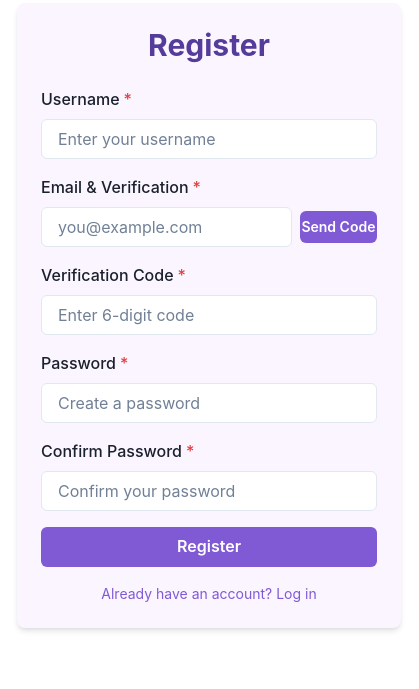
Scenario: Register Page › shows error when passwords do not match
In the field with placeholder "Enter your username": [209, 139] box [41,119,377,159], type "testuser"
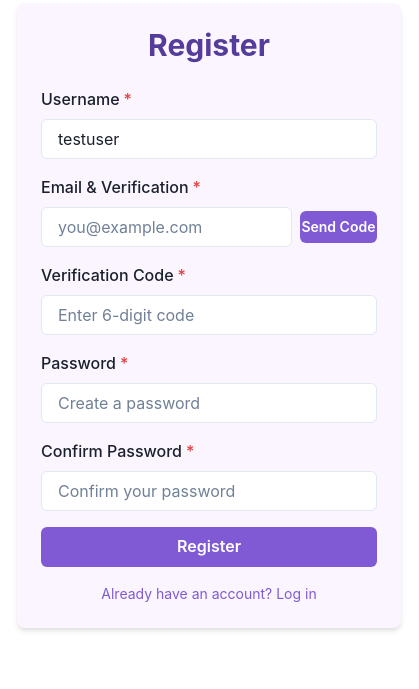
In the field with placeholder "you@example.com": [166, 227] box [41,207,292,247], type "test@example.com"
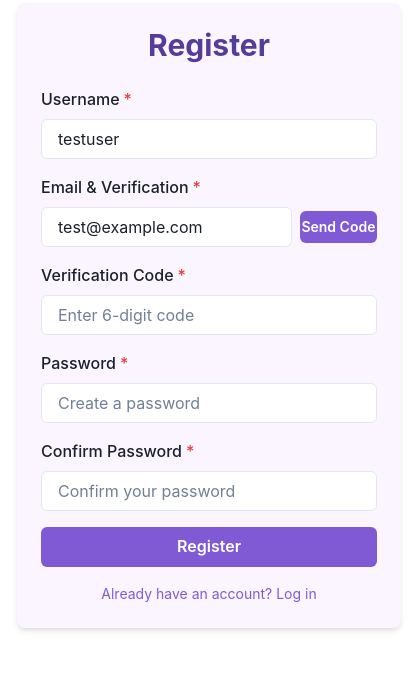
In the field with placeholder "Enter 6-digit code": [209, 315] box [41,295,377,335], type "123456"
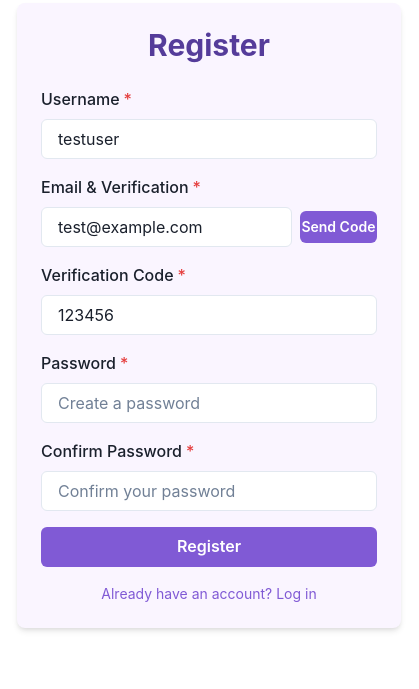
In the password field with placeholder "Create a password": [209, 403] box [41,383,377,423], type "password123"
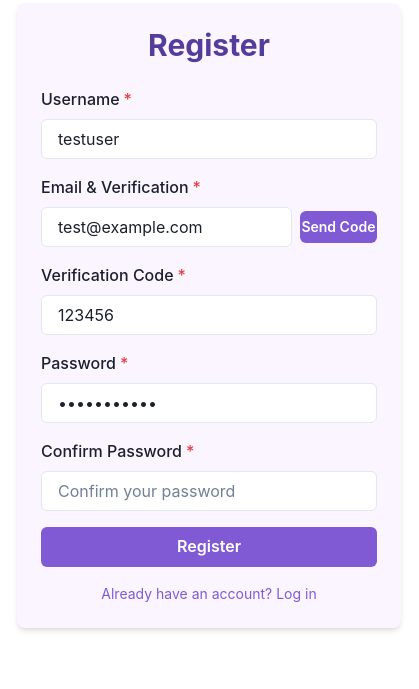
In the password field with placeholder "Confirm your password": [209, 491] box [41,471,377,511], type "wrongpass"
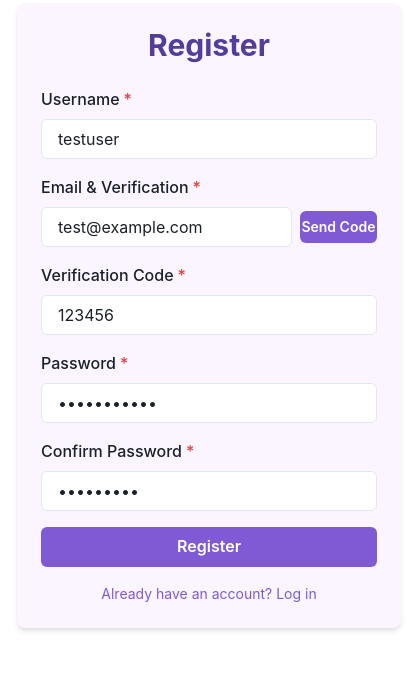
Click the button "Register": [209, 547] box [41,527,377,567]
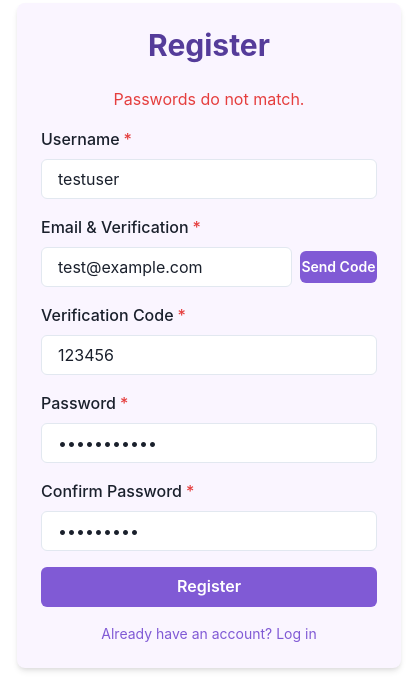
Check: the text "Passwords do not match." is shown, box [114,87,304,111]
